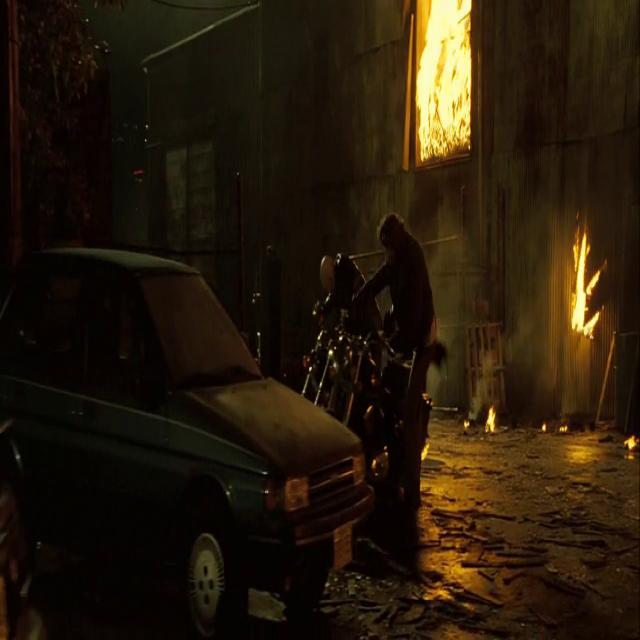Motorbike: (317, 340, 457, 557), (273, 302, 362, 474), (237, 274, 276, 365)
People: (366, 174, 433, 502), (307, 219, 371, 401)
car: (8, 225, 364, 640)
